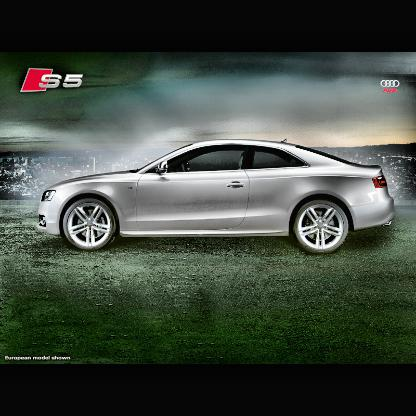Audi S5 Coupe 2012: (37, 139, 396, 256)
